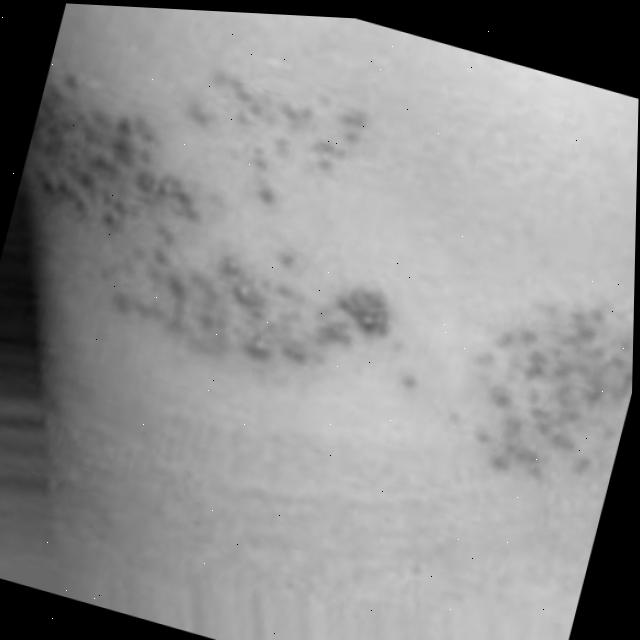Shingles: (0, 14, 448, 413), (450, 256, 635, 505)
